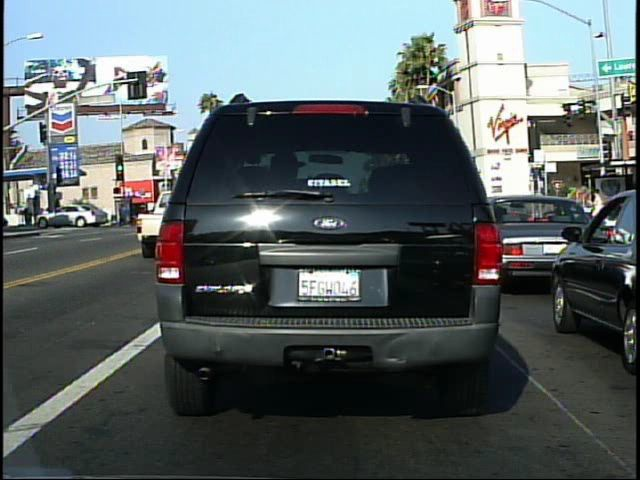person: (587, 186, 609, 240)
